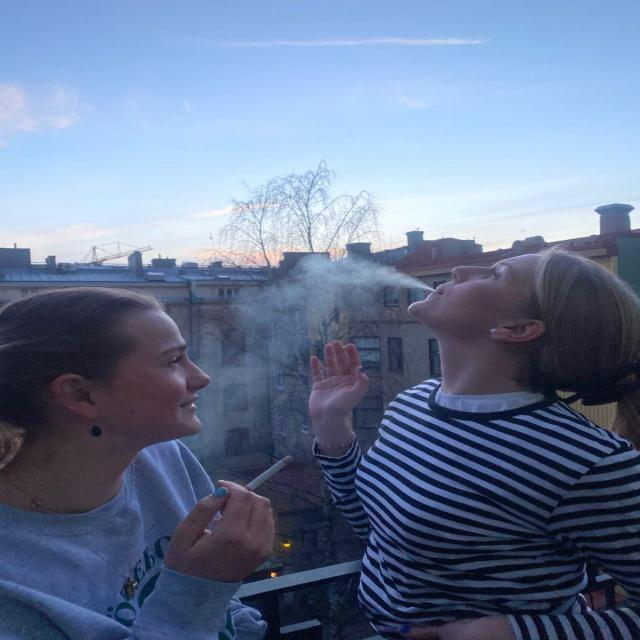cigarette: (219, 442, 307, 514)
